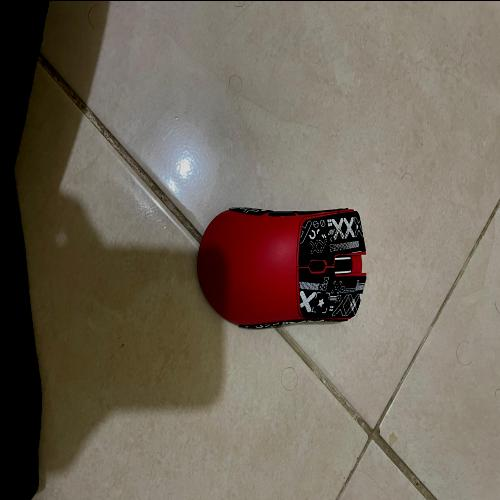mouse: (183, 198, 376, 347)
